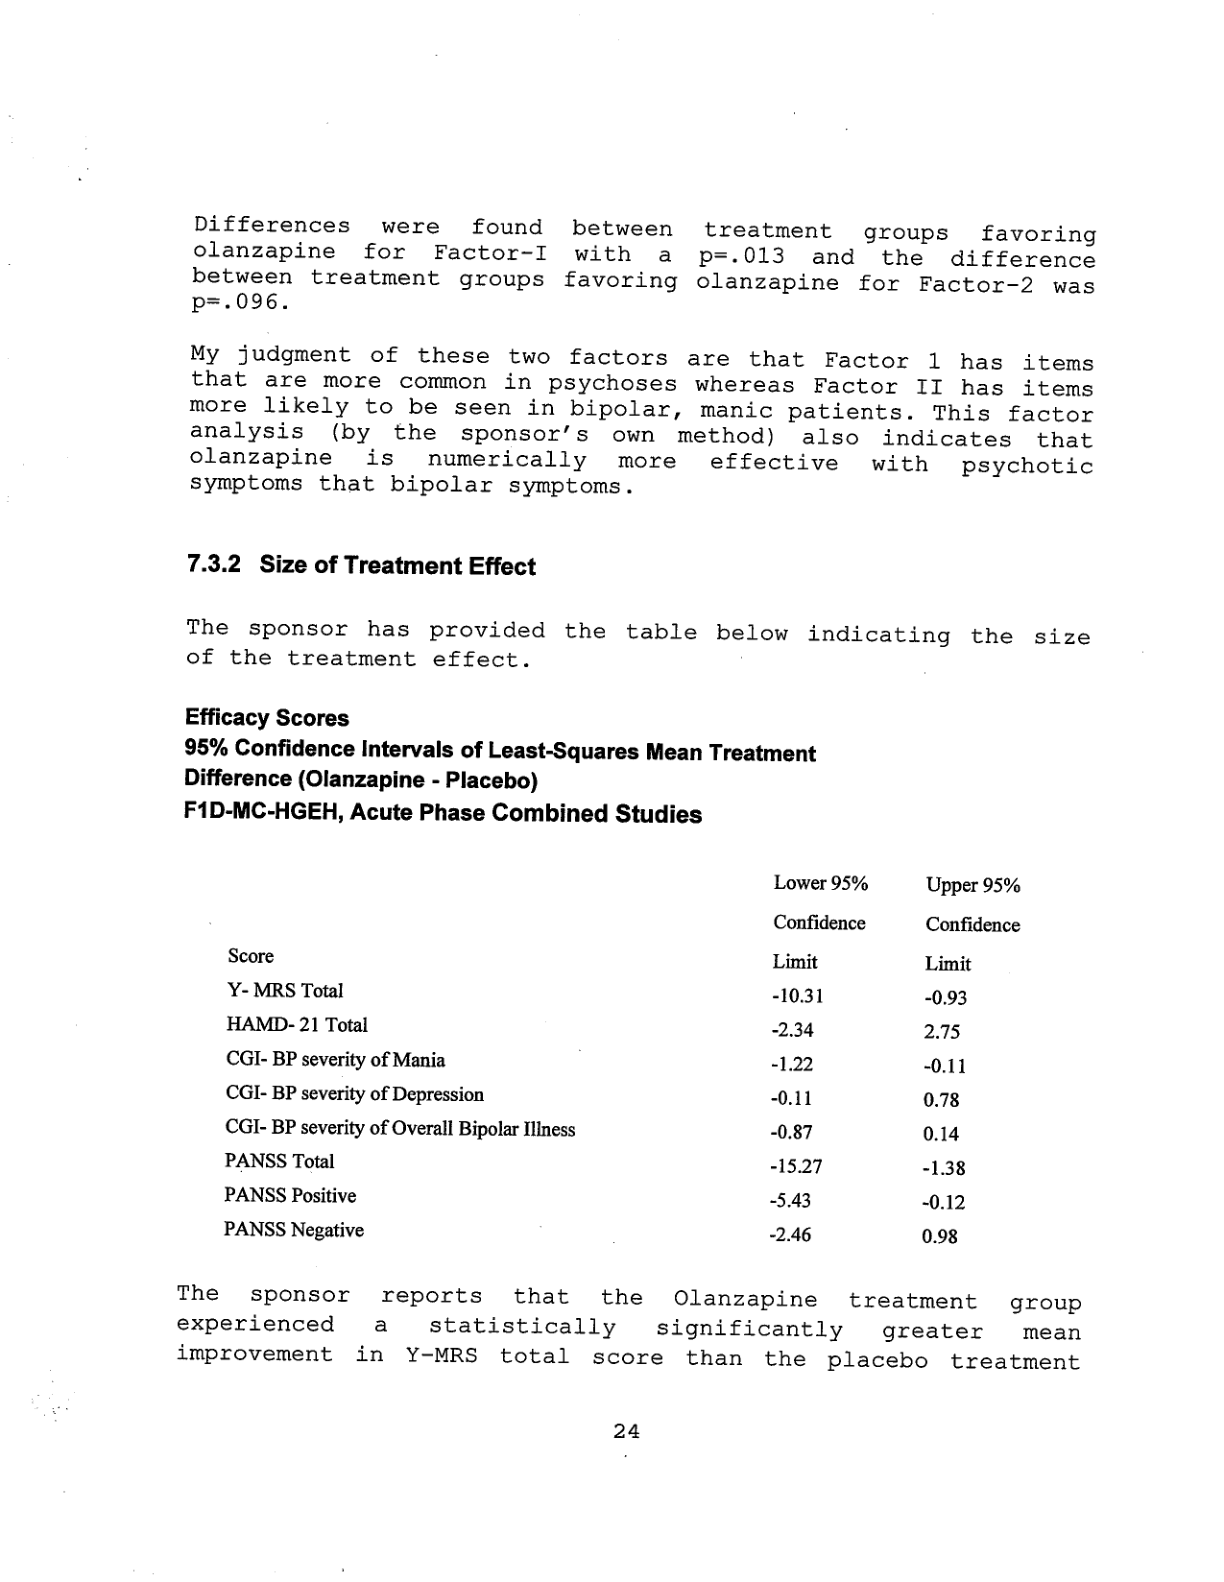nolines: (218, 869, 1021, 1246)
